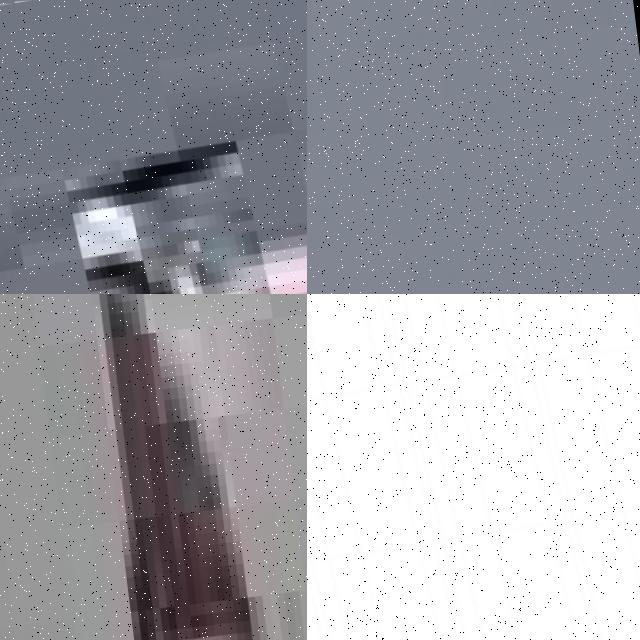drone: (307, 294, 640, 640), (0, 0, 307, 294)
